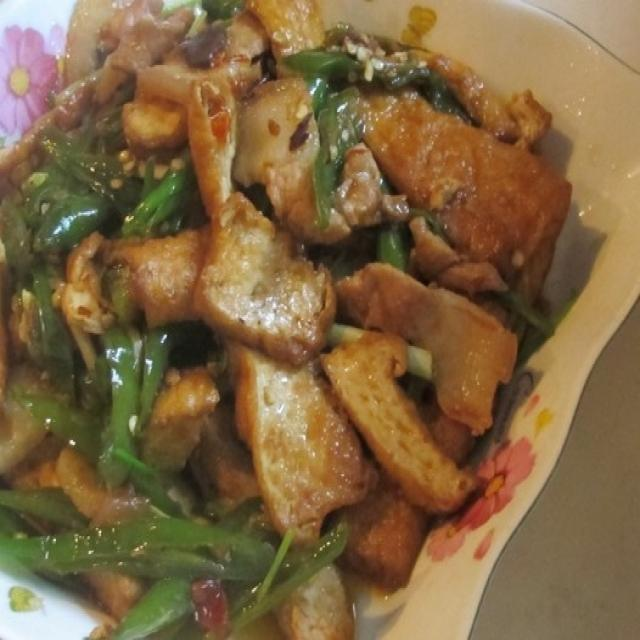豆腐料理: (7, 9, 616, 628)
